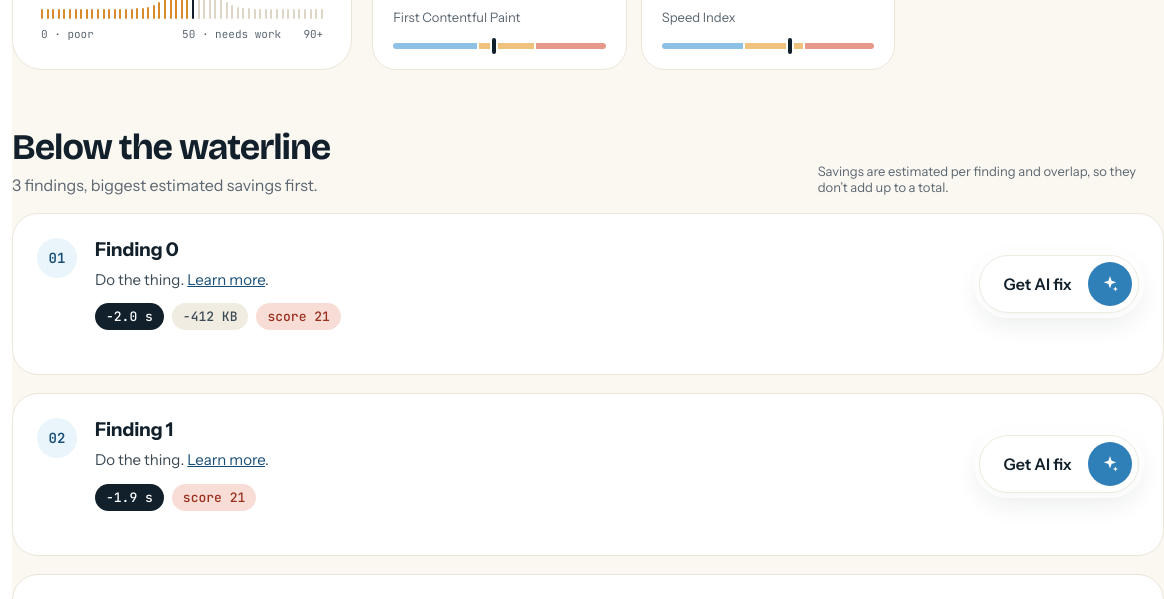
Test: fix panel polish › renders inline code in diagnosis and warns about unverified paths
(page scrolled)
Click the button "Get AI fix" in the row of "412 KB" at (1059, 284), box [978,255,1139,313]
(page scrolled)
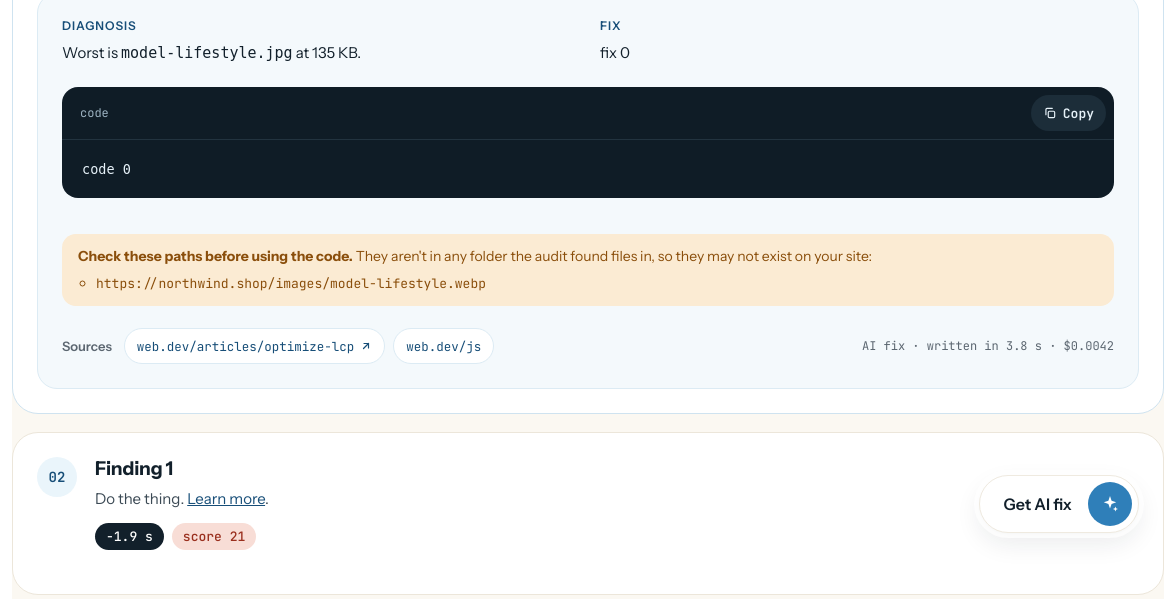
Check: the text "Check these paths before using the code." is shown, box [78,248,353,266]
Check: the text "https://northwind.shop/images/model-lifestyle.webp" is shown, box [96,276,486,292]
